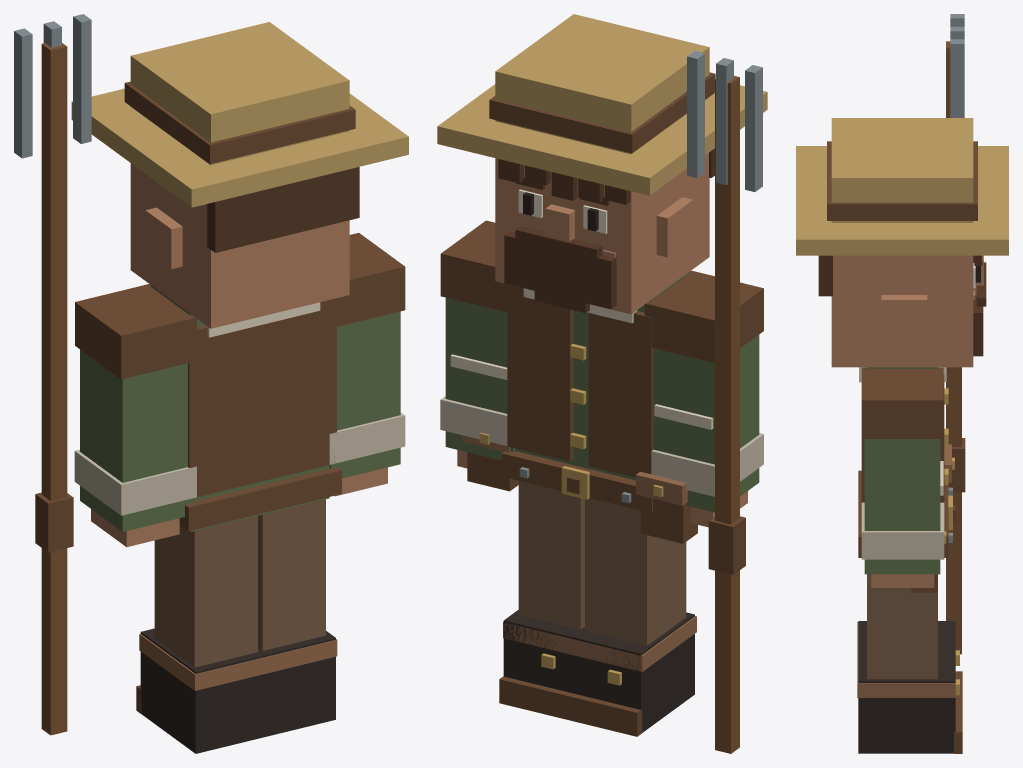
Rendered from farmer.obj.
3 views of the same model, side by side, from view 1: azimuth 30°, elevation 25°; view 2: azimuth 150°, elevation 25°; view 3: azimuth 270°, elevation 25° (orthographic). The views are drawn at different scales.
Visible parts, largest first — view 1: head, body, right_arm, right_leg, equipment_right, left_arm, left_leg; view 2: head, body, right_leg, equipment_right, right_arm, left_leg, left_arm; view 3: head, left_arm, left_leg, equipment_right, body, right_leg.
Boxes of the visible parts, x1,y1,x2,y2 form: head: (71, 22, 408, 328); body: (150, 285, 341, 531); right_arm: (74, 284, 196, 547); right_leg: (136, 516, 269, 753); equipment_right: (14, 14, 91, 735); left_arm: (329, 233, 405, 496); left_leg: (258, 499, 337, 736); head: (437, 14, 767, 314); body: (462, 271, 697, 543); right_leg: (565, 498, 696, 736); equipment_right: (687, 51, 762, 753); right_arm: (644, 270, 763, 527); left_leg: (499, 481, 584, 719); left_arm: (440, 220, 514, 468); head: (796, 118, 1008, 367); left_arm: (861, 367, 944, 587); left_leg: (857, 574, 962, 753); equipment_right: (946, 14, 965, 654); body: (858, 367, 955, 592); right_leg: (857, 621, 962, 700).
Size of the model in its own units: 1.2 by 2.44 by 0.75.
